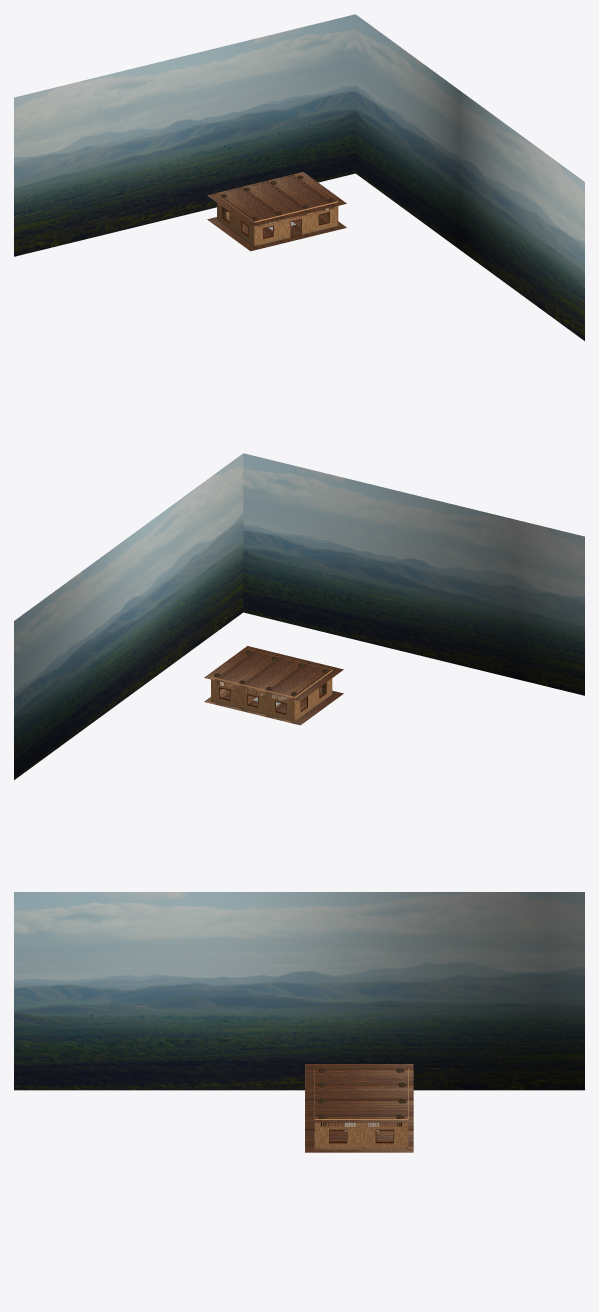
File: kfm3D.glb
3 renders of one model, top to bottom at view 1: azimuth 30°, elevation 25°; view 2: azimuth 150°, elevation 25°; view 3: azimuth 270°, elevation 25°, orthographic. The views are drawn at different scales.
Parts seen in each view (by area): view 1: Mountainside Temple Stage.005, Mountainside Temple Stage.006, Mountainside Temple Stage.002, Mountainside Temple Stage; view 2: Mountainside Temple Stage.005, Mountainside Temple Stage.006, Mountainside Temple Stage.002, Mountainside Temple Stage; view 3: Mountainside Temple Stage.005, Mountainside Temple Stage.006, Mountainside Temple Stage.002, Mountainside Temple Stage.
Part boxes in pixels (bbox=[...]): Mountainside Temple Stage.005: bbox=[14, 14, 584, 340]; Mountainside Temple Stage.006: bbox=[207, 172, 346, 227]; Mountainside Temple Stage.002: bbox=[216, 174, 338, 244]; Mountainside Temple Stage: bbox=[207, 211, 346, 251]; Mountainside Temple Stage.005: bbox=[14, 453, 584, 779]; Mountainside Temple Stage.006: bbox=[204, 646, 343, 701]; Mountainside Temple Stage.002: bbox=[210, 649, 332, 719]; Mountainside Temple Stage: bbox=[204, 685, 343, 725]; Mountainside Temple Stage.005: bbox=[14, 892, 584, 1090]; Mountainside Temple Stage.006: bbox=[305, 1064, 413, 1122]; Mountainside Temple Stage.002: bbox=[314, 1068, 408, 1146]; Mountainside Temple Stage: bbox=[305, 1122, 413, 1152].
Size of the model in its own units: 114 by 50.81 by 133.
8 materials, 8 textured.
